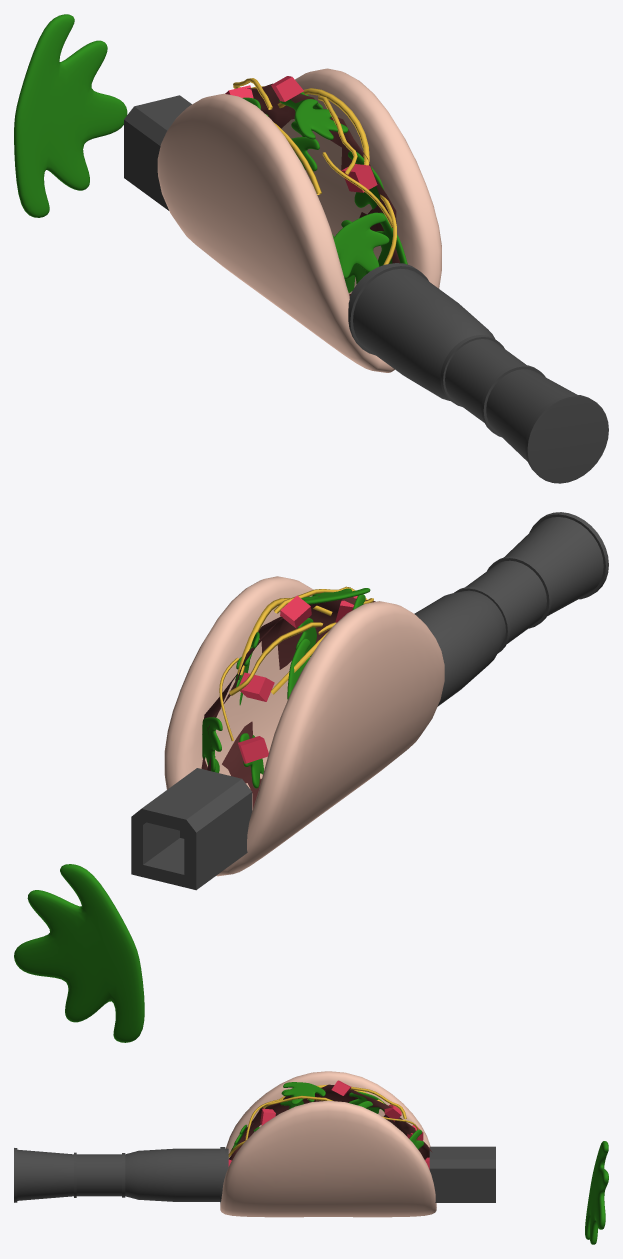
Rendered from tacoBlaster.fbx.
The picture shows the model from 3 angles, top to bottom: view 1: azimuth 30°, elevation 25°; view 2: azimuth 150°, elevation 25°; view 3: azimuth 270°, elevation 25°; orthographic projection. The views are drawn at different scales.
Visible parts, largest first — view 1: Shell, Cylinder.002, lechuga, Cube, Beef|lechuga|Dupli|14, Beef, Beef|lechuga|Dupli|13, BézierCurve.001, Tomato.003; view 2: Shell, Cylinder.002, lechuga, Cube, Beef, Beef|lechuga|Dupli|7; view 3: Shell, Cylinder.002, Cube, lechuga, Beef, Beef|lechuga|Dupli|13, Beef|lechuga|Dupli|.
Boxes of the visible parts, x1,y1,x2,y2 form: Shell: (157,68,441,372); Cylinder.002: (348,263,608,483); lechuga: (14,14,127,217); Cube: (124,95,191,210); Beef|lechuga|Dupli|14: (333,212,389,278); Beef: (247,83,400,296); Beef|lechuga|Dupli|13: (295,99,348,139); BézierCurve.001: (277,88,369,165); Tomato.003: (341,164,377,192); Shell: (164,576,444,876); Cylinder.002: (414,512,608,706); lechuga: (14,864,144,1042); Cube: (131,768,252,890); Beef: (201,596,375,809); Beef|lechuga|Dupli|7: (202,717,222,771); Shell: (220,1071,436,1217); Cylinder.002: (14,1147,228,1203); Cube: (429,1146,495,1202); lechuga: (585,1141,608,1244); Beef: (229,1084,432,1160); Beef|lechuga|Dupli|13: (283,1082,325,1104); Beef|lechuga|Dupli|: (348,1091,385,1113).
Bounding box in the file's own units: 84.09 × 172 × 549.
